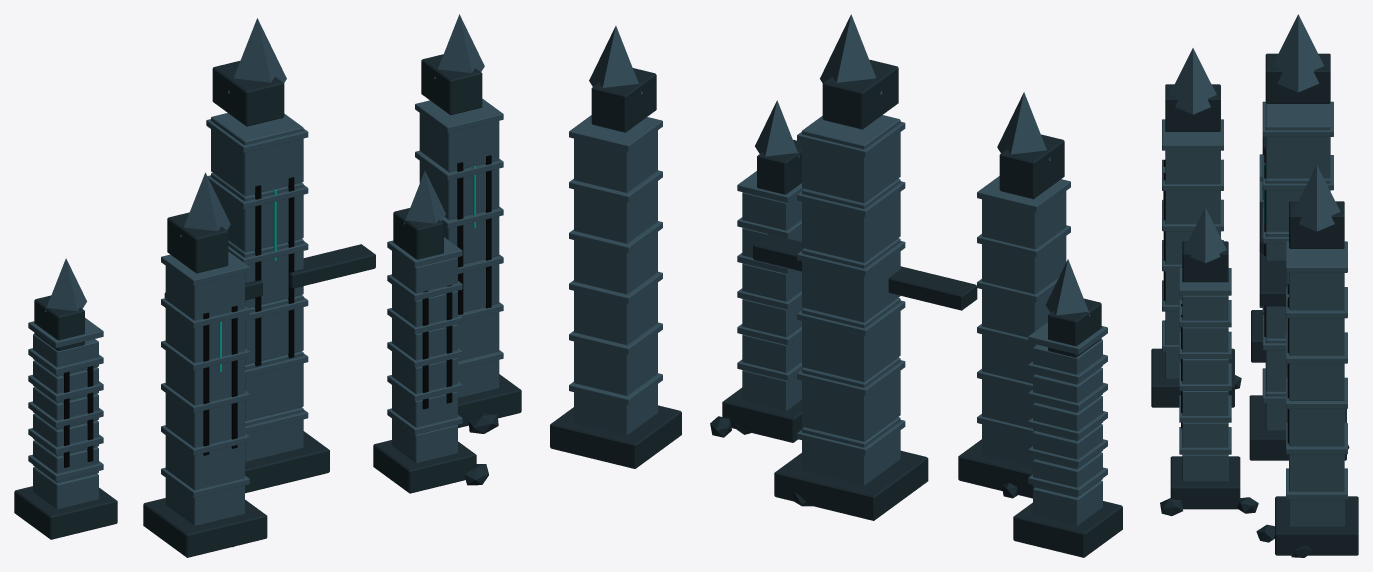
The model's file is distant_tower_cluster.obj.
3 views of the same model, side by side, from view 1: azimuth 30°, elevation 25°; view 2: azimuth 150°, elevation 25°; view 3: azimuth 270°, elevation 25° (orthographic). The views are drawn at different scales.
Parts seen in each view (by area): view 1: distant_tower_cluster; view 2: distant_tower_cluster; view 3: distant_tower_cluster.
Part boxes in pixels (x1,y1,x2,y2): distant_tower_cluster: [14, 14, 521, 557]; distant_tower_cluster: [550, 14, 1122, 557]; distant_tower_cluster: [1151, 14, 1358, 557].
Size of the model in its own units: 173 by 154 by 67.
1 material, 1 textured.
